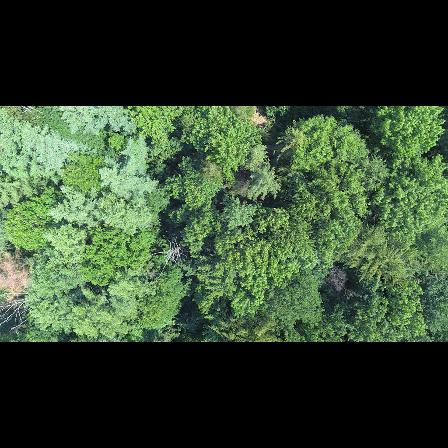Dead: (154, 234, 190, 271), (317, 265, 355, 293)
